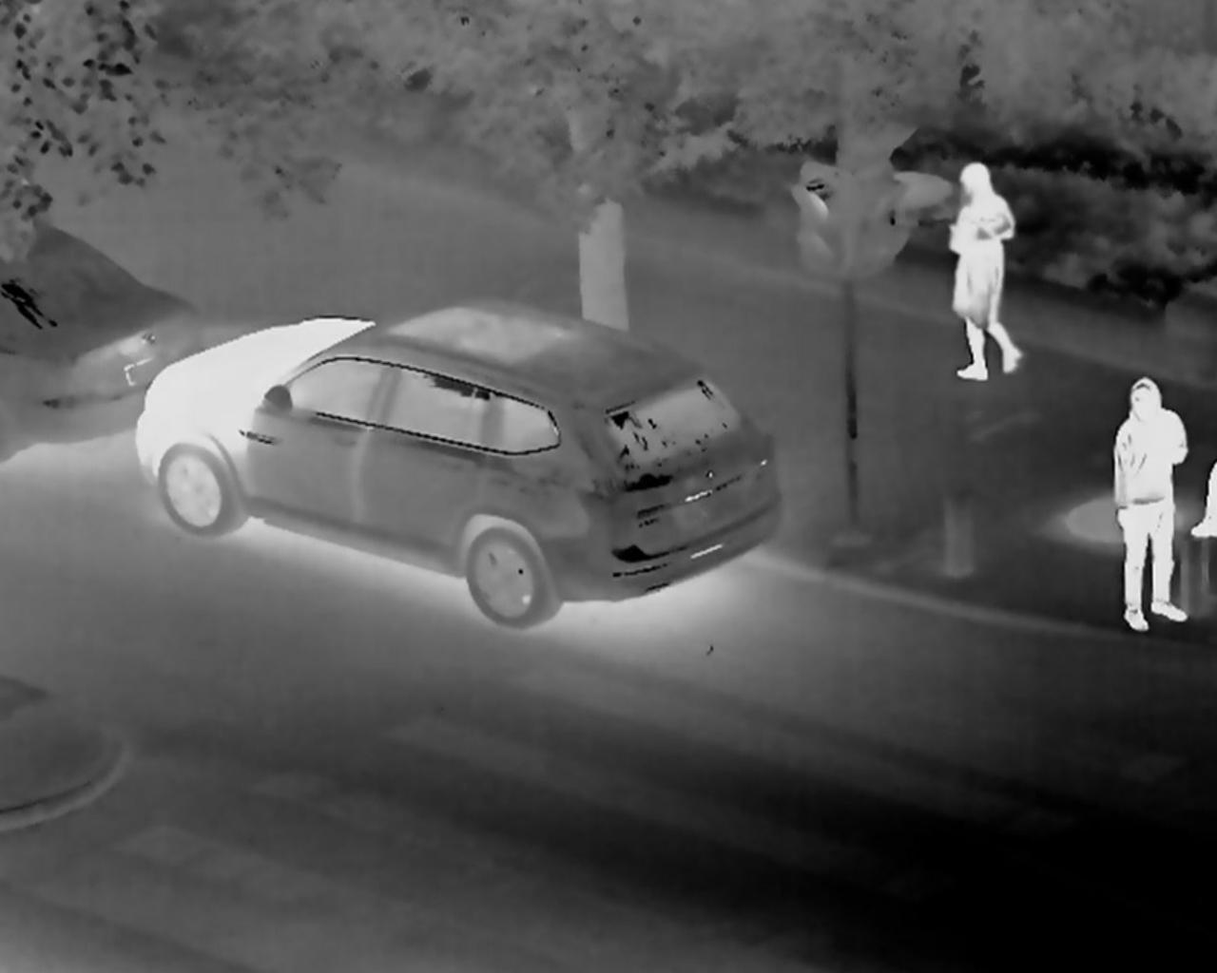person: (1109, 372, 1192, 629), (940, 159, 1026, 379)
